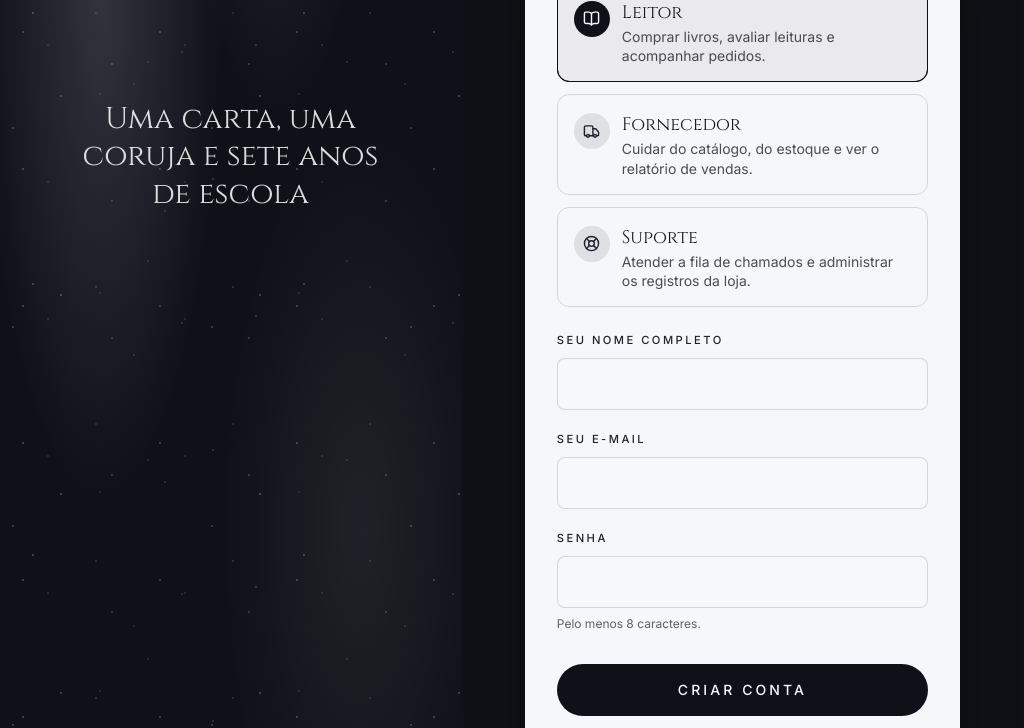
it: Register page › shows the server complaint when the e-mail is already taken
(page scrolled)
In the field labelled "Seu nome completo": (742, 384) 557,358 -> 928,410, type "Nova Pessoa"
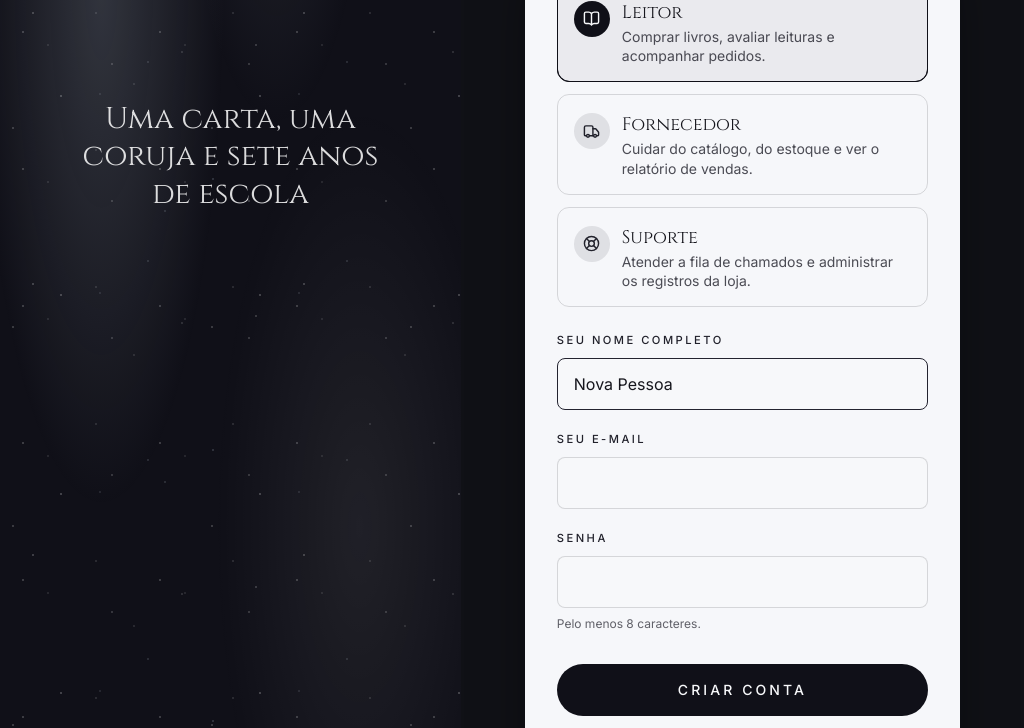
In the field labelled "Seu e-mail": (742, 483) 557,457 -> 928,509, type "agostinhocarrara@gmail.com"
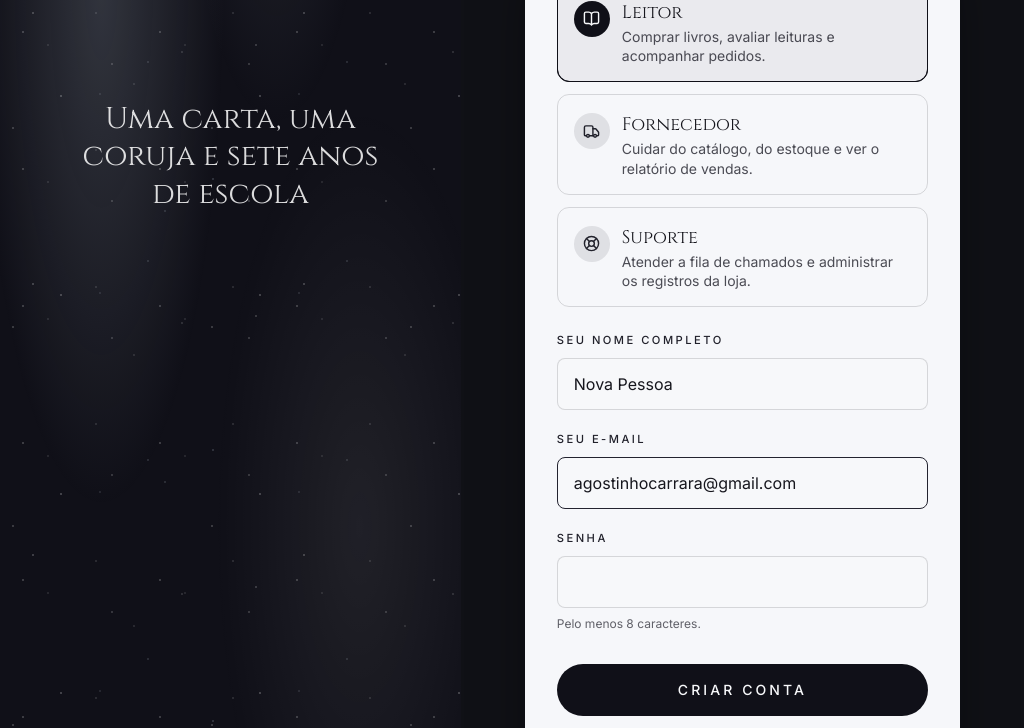
In the password field labelled "Senha": (742, 582) 557,556 -> 928,608, type "libraryspotter"
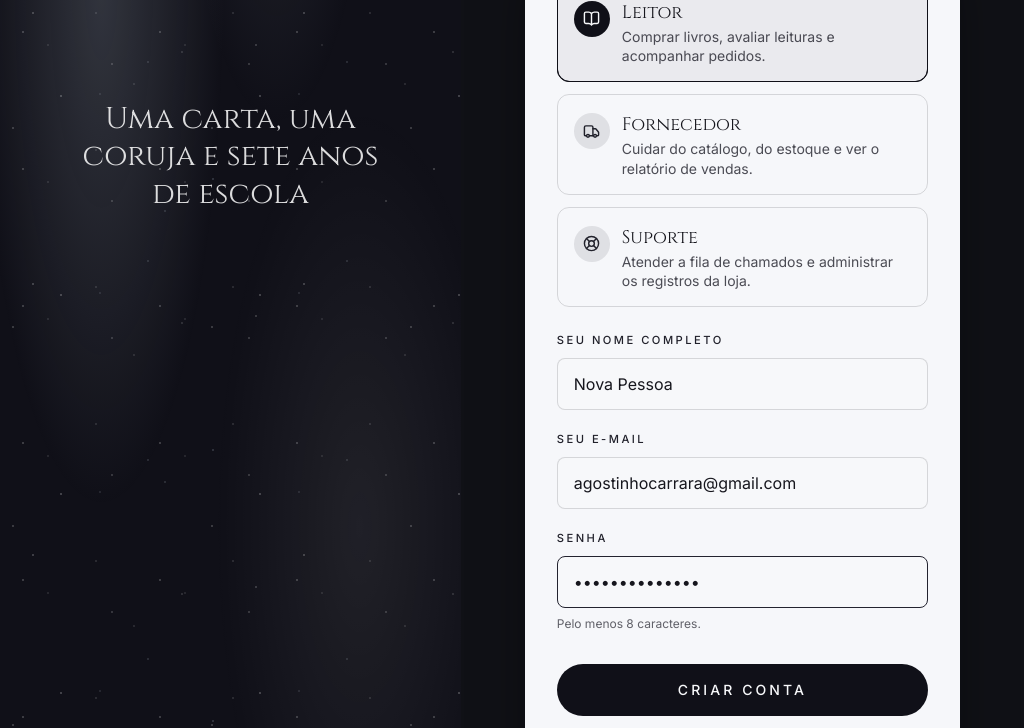
Click the button "Criar conta": (742, 690) 557,664 -> 928,716
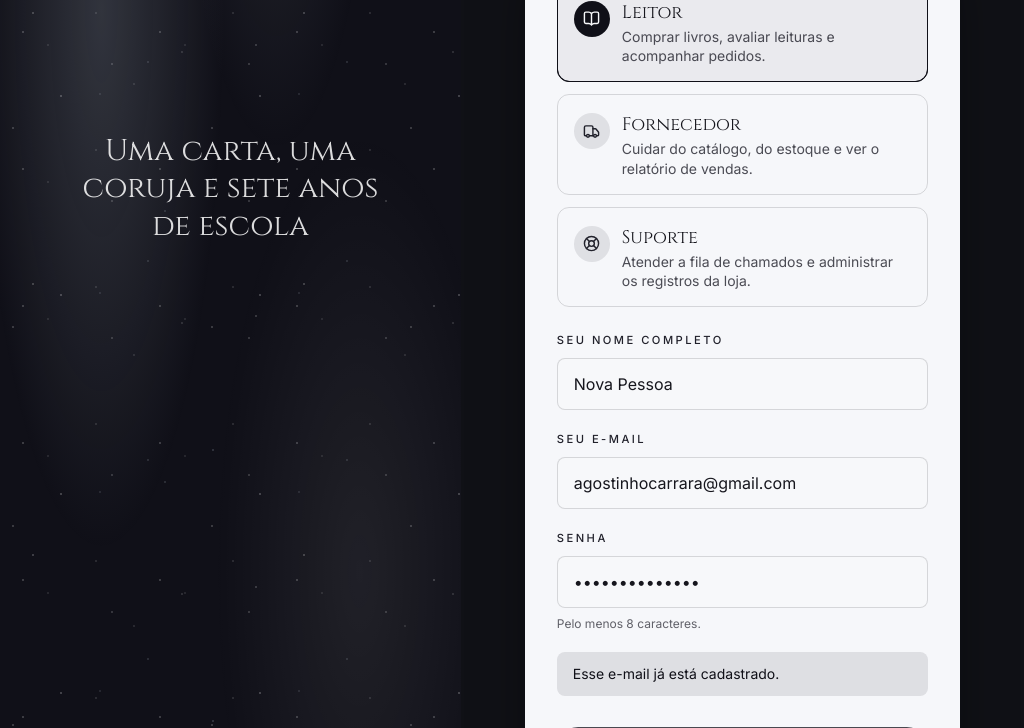
expect the message shows "já está cadastrado": met, box 573,665 -> 779,682
